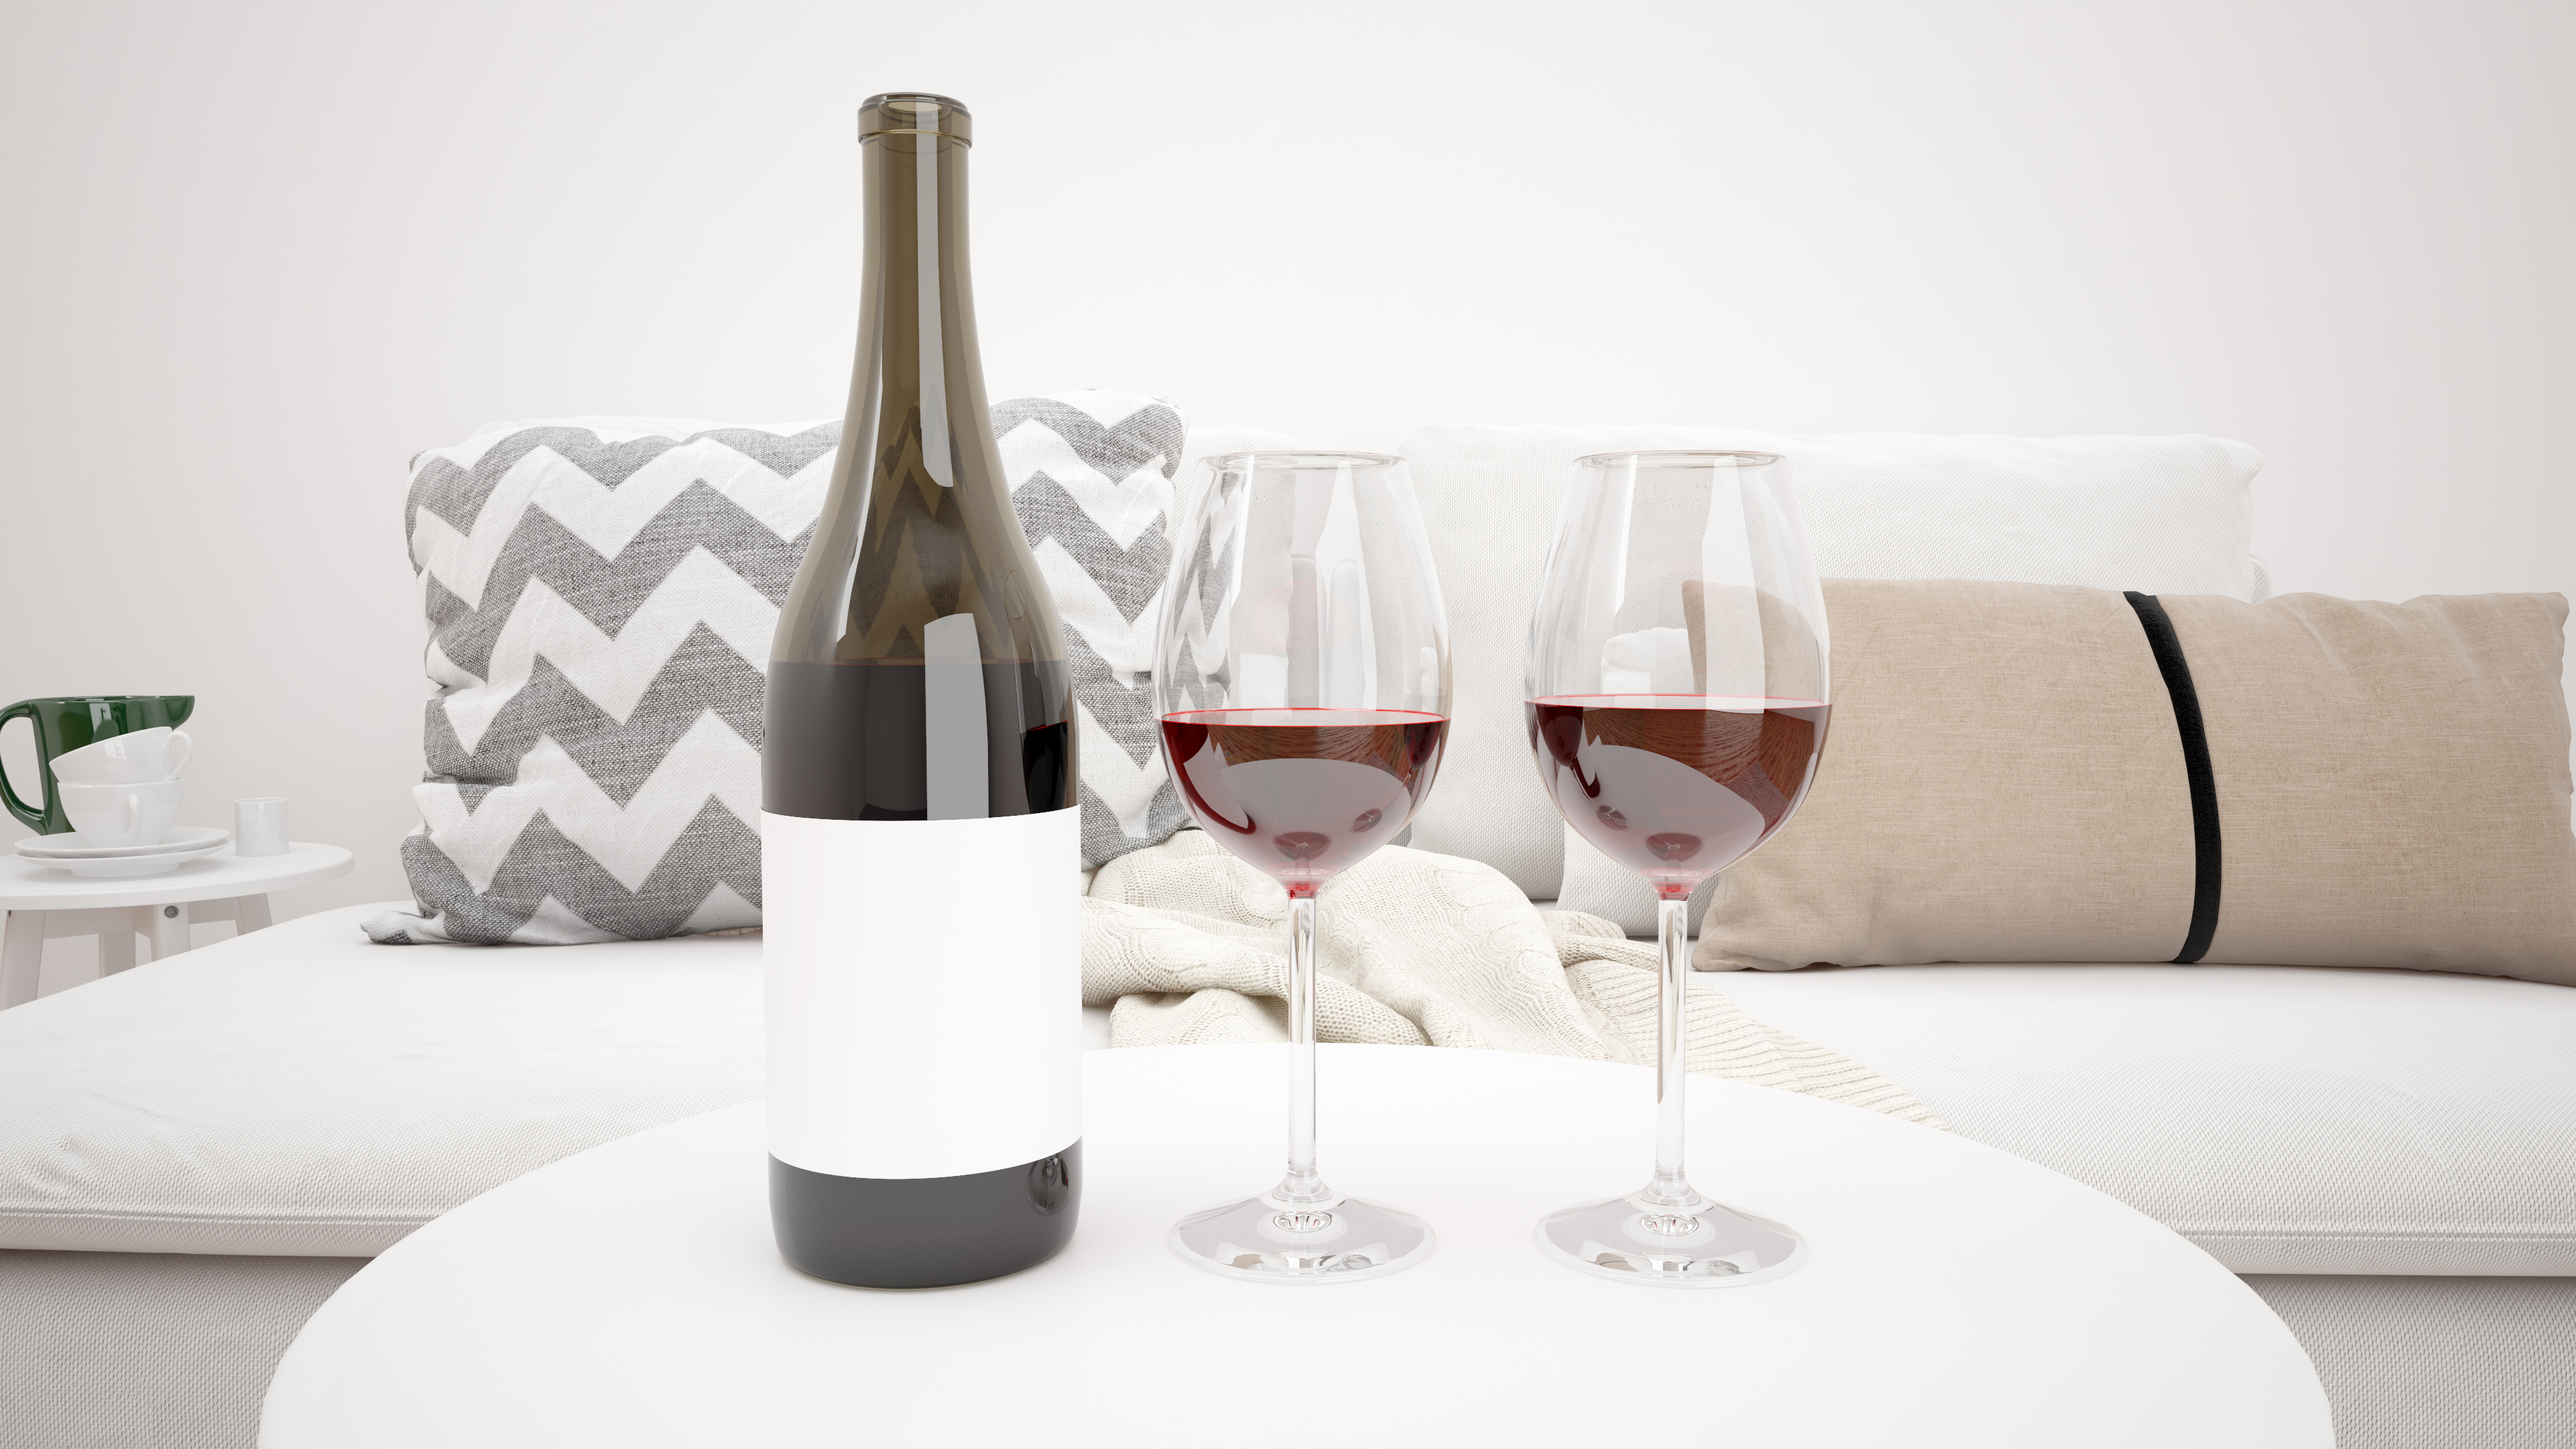WineBottel: (755, 62, 1109, 1297)
WineGlass: (1150, 428, 1474, 1293), (1525, 442, 1845, 1299)
